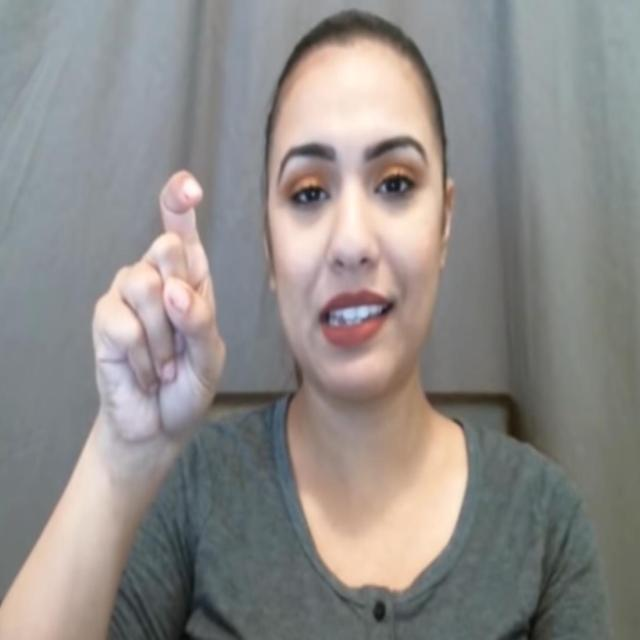X: (85, 163, 228, 444)
